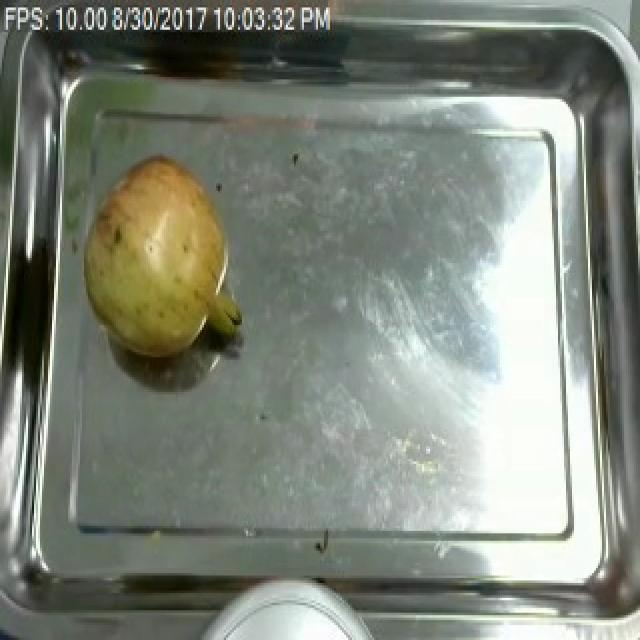fruit: (76, 136, 240, 370)
